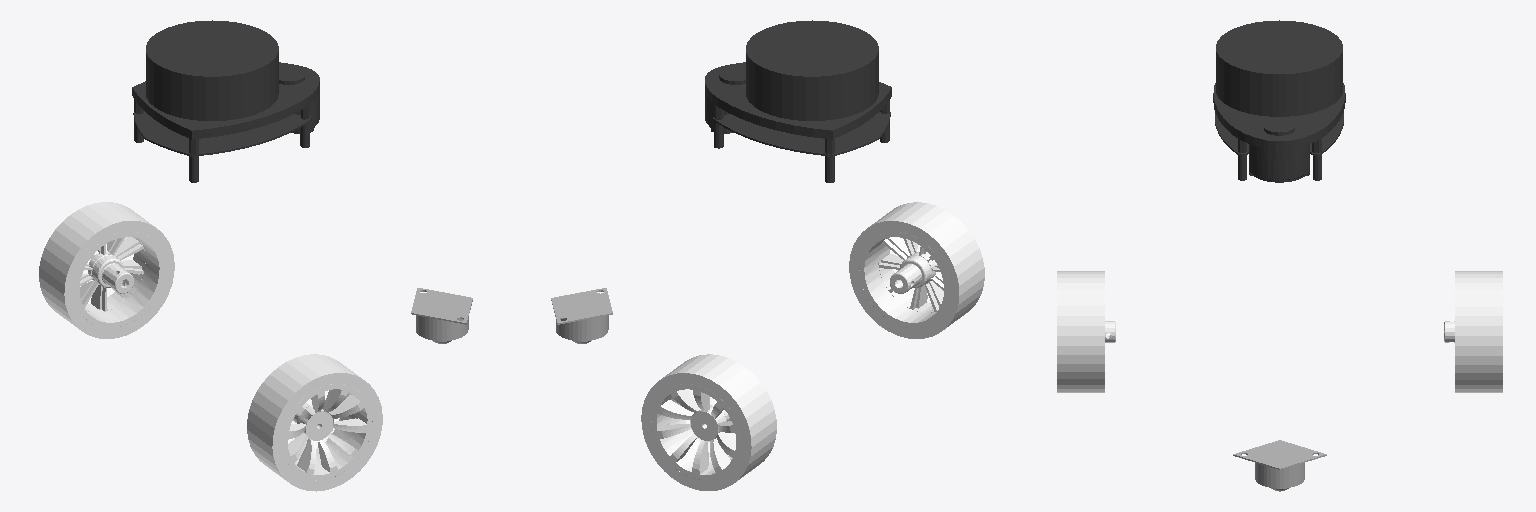
URDF robot description (jetsonbot_description):
<?xml version="1.0" encoding="utf-8"?>
<!-- This URDF was automatically created by SolidWorks to URDF Exporter! Originally created by [author] ([email redacted]) 
     Commit Version: 1.5.1-0-g916b5db  Build Version: 1.5.7152.31018
     For more information, please see http://wiki.ros.org/sw_urdf_exporter -->
<robot
  name="jetsonbot_description">
  <link
    name="base_link">
    <inertial>
      <origin
        xyz="0.0047715 -0.0014807 0.044523"
        rpy="0 0 0" />
      <mass
        value="0.77437" />
      <inertia
        ixx="0.0032455"
        ixy="2.9082E-05"
        ixz="0.00025763"
        iyy="0.0031915"
        iyz="-3.1213E-05"
        izz="0.0037916" />
    </inertial>
    <visual>
      <origin
        xyz="0 0 0"
        rpy="0 0 0" />
      <geometry>
        <mesh
          filename="package://jetsonbot_description/meshes/base_link.STL" />
      </geometry>
      <material
        name="">
        <color
          rgba="0.79216 0.81961 0.93333 1" />
      </material>
    </visual>
    <collision>
      <origin
        xyz="0 0 0"
        rpy="0 0 0" />
      <geometry>
        <mesh
          filename="package://jetsonbot_description/meshes/base_link.STL" />
      </geometry>
    </collision>
  </link>
  <link
    name="left_wheel_link">
    <inertial>
      <origin
        xyz="-2.69089611704132E-08 -0.00435578551819871 -1.31337207914806E-08"
        rpy="0 0 0" />
      <mass
        value="0.0482752493266289" />
      <inertia
        ixx="1.99861431168568E-05"
        ixy="-7.46671916195545E-12"
        ixz="-5.04358554916956E-11"
        iyy="3.45141126358409E-05"
        iyz="-3.14453157602247E-12"
        izz="1.99863129466129E-05" />
    </inertial>
    <visual>
      <origin
        xyz="0 0 0"
        rpy="0 0 0" />
      <geometry>
        <mesh
          filename="package://jetsonbot_description/meshes/left_wheel_link.STL" />
      </geometry>
      <material
        name="">
        <color
          rgba="1 1 1 1" />
      </material>
    </visual>
    <collision>
      <origin
        xyz="0 0 0"
        rpy="0 0 0" />
      <geometry>
        <mesh
          filename="package://jetsonbot_description/meshes/left_wheel_link.STL" />
      </geometry>
    </collision>
  </link>
  <joint
    name="left_wheel_joint"
    type="continuous">
    <origin
      xyz="-0.043881 0.11073 0.0215"
      rpy="0 0 0" />
    <parent
      link="base_link" />
    <child
      link="left_wheel_link" />
    <axis
      xyz="0 1 0" />
  </joint>
  <link
    name="right_wheel_link">
    <inertial>
      <origin
        xyz="1.1532E-09 0.0043558 -2.9921E-08"
        rpy="0 0 0" />
      <mass
        value="0.048275" />
      <inertia
        ixx="1.9986E-05"
        ixy="-7.604E-13"
        ixz="4.2889E-11"
        iyy="3.4514E-05"
        iyz="8.0661E-12"
        izz="1.9986E-05" />
    </inertial>
    <visual>
      <origin
        xyz="0 0 0"
        rpy="0 0 0" />
      <geometry>
        <mesh
          filename="package://jetsonbot_description/meshes/right_wheel_link.STL" />
      </geometry>
      <material
        name="">
        <color
          rgba="1 1 1 1" />
      </material>
    </visual>
    <collision>
      <origin
        xyz="0 0 0"
        rpy="0 0 0" />
      <geometry>
        <mesh
          filename="package://jetsonbot_description/meshes/right_wheel_link.STL" />
      </geometry>
    </collision>
  </link>
  <joint
    name="right_wheel_joint"
    type="continuous">
    <origin
      xyz="-0.043881 -0.11073 0.0215"
      rpy="0 0 0" />
    <parent
      link="base_link" />
    <child
      link="right_wheel_link" />
    <axis
      xyz="0 1 0" />
  </joint>
  <link
    name="laser_link">
    <inertial>
      <origin
        xyz="0.0062631910022847 3.81318568261357E-06 -0.00737888701294895"
        rpy="0 0 0" />
      <mass
        value="0.137819035246882" />
      <inertia
        ixx="5.9983710717641E-05"
        ixy="-1.30731671116671E-08"
        ixz="1.56224391843613E-05"
        iyy="9.38764462656713E-05"
        iyz="1.14801841187963E-08"
        izz="0.000110755733268658" />
    </inertial>
    <visual>
      <origin
        xyz="0 0 0"
        rpy="0 0 0" />
      <geometry>
        <mesh
          filename="package://jetsonbot_description/meshes/laser_link.STL" />
      </geometry>
      <material
        name="">
        <color
          rgba="0.298039215686275 0.298039215686275 0.298039215686275 1" />
      </material>
    </visual>
    <collision>
      <origin
        xyz="0 0 0"
        rpy="0 0 0" />
      <geometry>
        <mesh
          filename="package://jetsonbot_description/meshes/laser_link.STL" />
      </geometry>
    </collision>
  </link>
  <joint
    name="laser_joint"
    type="fixed">
    <origin
      xyz="-0.043232 -0.00027141 0.1765"
      rpy="0 0 0" />
    <parent
      link="base_link" />
    <child
      link="laser_link" />
    <axis
      xyz="0 0 0" />
  </joint>
  <link
    name="niujiaolun_link">
    <inertial>
      <origin
        xyz="0 3.69473578724923E-20 0.0111804892378822"
        rpy="0 0 0" />
      <mass
        value="0.00911013999938701" />
      <inertia
        ixx="6.40056194526272E-07"
        ixy="-4.54373925393991E-23"
        ixz="7.21556510002207E-24"
        iyy="6.11854090718744E-07"
        iyz="7.7905978217612E-25"
        izz="8.12795721176257E-07" />
    </inertial>
    <visual>
      <origin
        xyz="0 0 0"
        rpy="0 0 0" />
      <geometry>
        <mesh
          filename="package://jetsonbot_description/meshes/niujiaolun_link.STL" />
      </geometry>
      <material
        name="">
        <color
          rgba="0.752941176470588 0.752941176470588 0.752941176470588 1" />
      </material>
    </visual>
    <collision>
      <origin
        xyz="0 0 0"
        rpy="0 0 0" />
      <geometry>
        <mesh
          filename="package://jetsonbot_description/meshes/niujiaolun_link.STL" />
      </geometry>
    </collision>
  </link>
  <joint
    name="niujiaolun_joint"
    type="fixed">
    <origin
      xyz="0.092152 0 -0.0059"
      rpy="0 0 0" />
    <parent
      link="base_link" />
    <child
      link="niujiaolun_link" />
    <axis
      xyz="0 0 0" />
  </joint>
</robot>

--- Render facts (derived) ---
3 views of the same robot in one strip: view 1: azimuth 30°, elevation 25°; view 2: azimuth 150°, elevation 25°; view 3: azimuth 270°, elevation 25° (orthographic).
Model jetsonbot_description with 5 links and 4 joints (2 continuous, 2 fixed), rooted at base_link, posed every joint at zero.
Links seen in each view (by area): view 1: laser_link, right_wheel_link, left_wheel_link, niujiaolun_link; view 2: laser_link, right_wheel_link, left_wheel_link, niujiaolun_link; view 3: laser_link, right_wheel_link, left_wheel_link, niujiaolun_link.
Boxes of the visible links, box(x1,y1,x2,y2) form: laser_link: box(132, 20, 319, 182); right_wheel_link: box(247, 354, 382, 491); left_wheel_link: box(39, 202, 174, 338); niujiaolun_link: box(411, 288, 472, 343); laser_link: box(705, 20, 891, 182); right_wheel_link: box(849, 202, 984, 338); left_wheel_link: box(641, 354, 776, 490); niujiaolun_link: box(551, 288, 612, 343); laser_link: box(1213, 20, 1345, 182); right_wheel_link: box(1057, 271, 1115, 392); left_wheel_link: box(1444, 271, 1502, 392); niujiaolun_link: box(1233, 440, 1326, 491).
Size in the robot's own frame: 0.1932 by 0.238 by 0.2 metres.
4 mesh visuals loaded from 5 distinct referenced files (4 binary STL); not drawn: 1 (reference not matched to a file when rendering).
